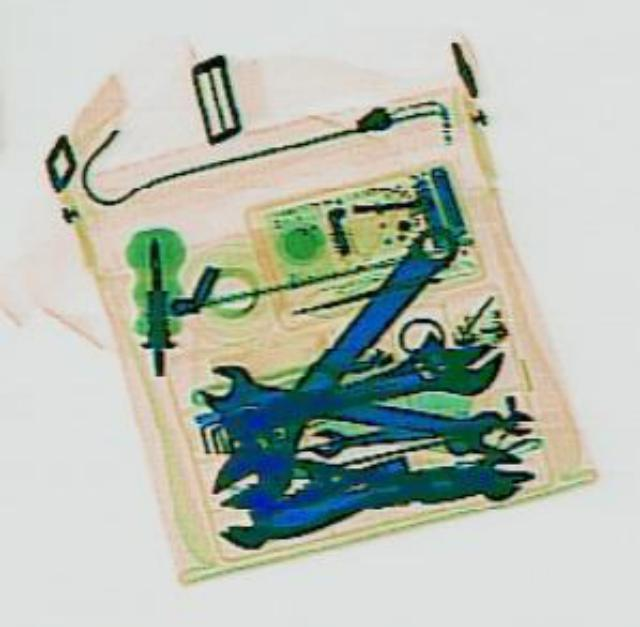Wrench: (197, 211, 476, 524), (212, 333, 508, 447), (198, 356, 506, 457)
